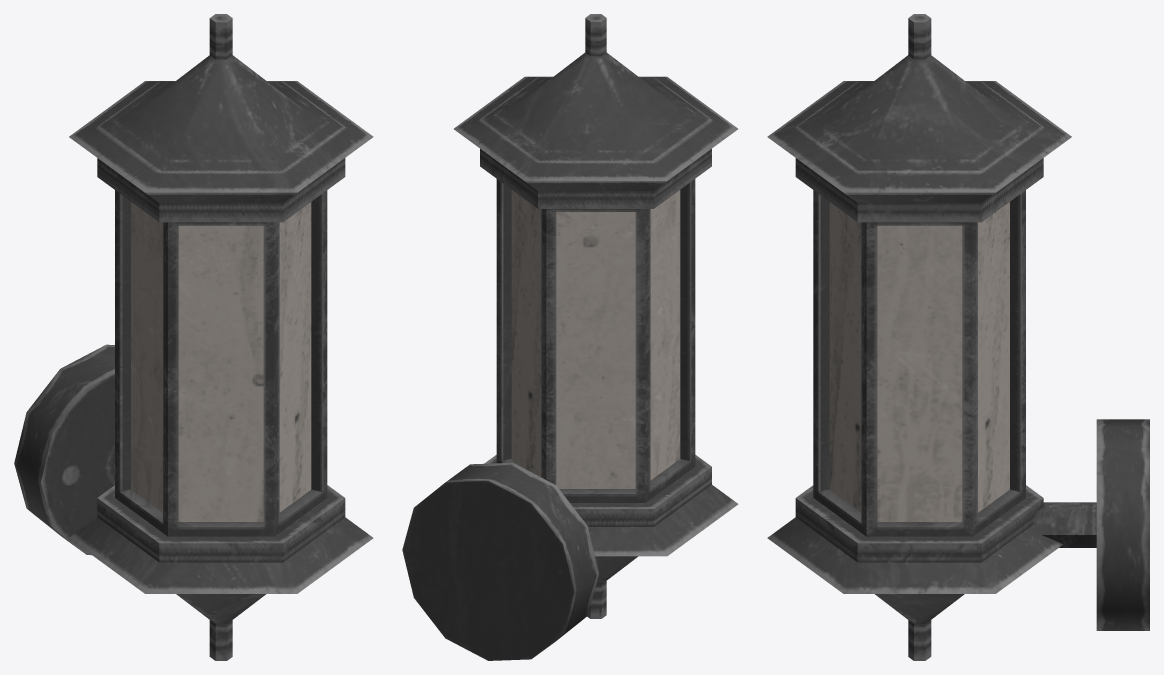
File: wallLightC.fbx
The picture shows the model from 3 angles, left to right: view 1: azimuth 30°, elevation 25°; view 2: azimuth 150°, elevation 25°; view 3: azimuth 270°, elevation 25°; orthographic projection. The views are drawn at different scales.
Parts seen in each view (by area): view 1: wallLightC; view 2: wallLightC; view 3: wallLightC.
Part boxes in pixels (x1,y1,x2,y2): wallLightC: (14, 14, 373, 660); wallLightC: (402, 14, 738, 660); wallLightC: (767, 14, 1149, 660).
Size of the model in its own units: 14.92 by 39.8 by 21.62.
Materials: 1 (1 with a texture image).
